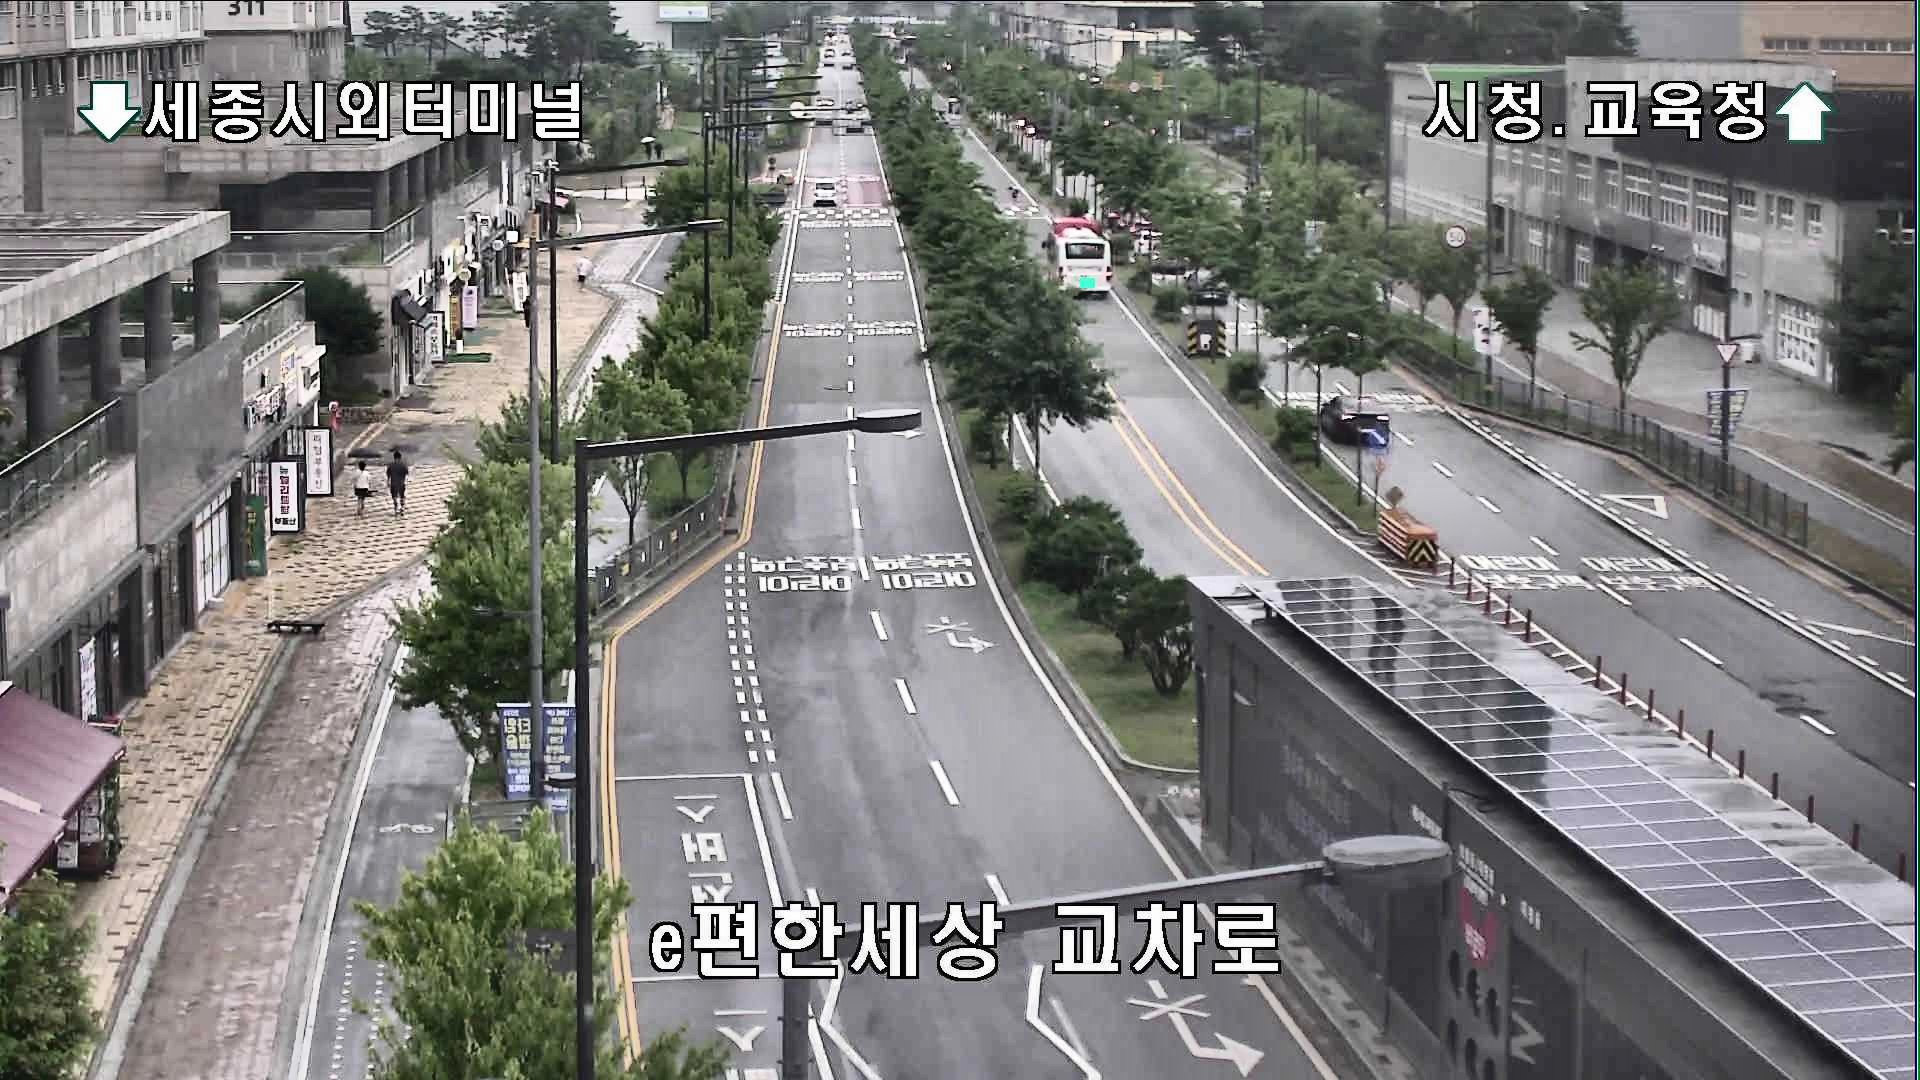sidewalk: (521, 293, 537, 332)
um_sidewalk: (344, 448, 378, 522), (385, 439, 410, 520), (576, 256, 597, 290)
